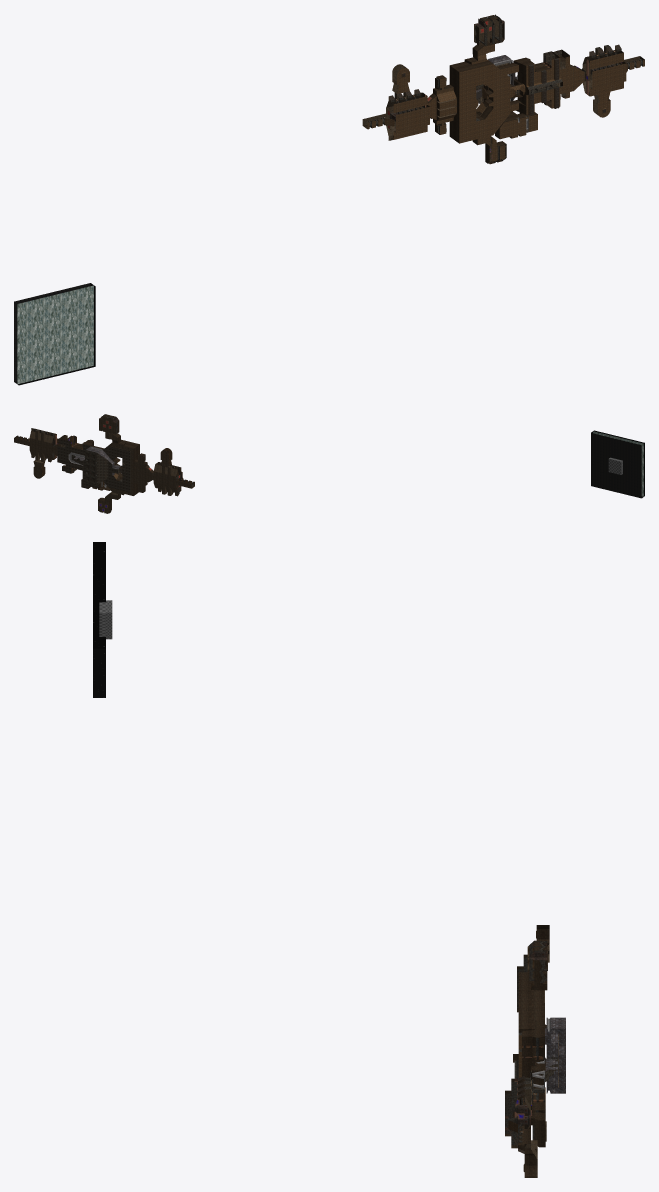
Rendered from CTF-Crucible.obj.
The picture shows the model from 3 angles, top to bottom: view 1: azimuth 30°, elevation 25°; view 2: azimuth 150°, elevation 25°; view 3: azimuth 270°, elevation 25°; orthographic projection. The views are drawn at different scales.
Parts seen in each view (by area): view 1: SkyCity_Base_sDavW27b, genfluid_Sky_SkytstA, utcrypt_Wall_ut-toc-brick2, utcrypt_Floor_rClfFlr12, utcrypt_Base_nucryptmetl1, utcrypt_Deco_indi4, shaneDAY_Dbottm; view 2: utcrypt_Floor_rClfFlr12, shaneDAY_Dbottm, UTtech1_Floor_floor3b, utcrypt_Wall_ut-toc-brick2, SkyCity_Base_sDavW27b, genfluid_Sky_SkytstA, utcrypt_Base_nucryptmetl1, _untextured, UT_morter1; view 3: utcrypt_Wall_ut-toc-brick2, ShaneSky_STARS, utcrypt_Base_nucryptmetl1, UT_morter1.
Part boxes in pixels (<box>): SkyCity_Base_sDavW27b: <box>367,44,644,161</box>; genfluid_Sky_SkytstA: <box>17,285,93,384</box>; utcrypt_Wall_ut-toc-brick2: <box>363,14,644,164</box>; utcrypt_Floor_rClfFlr12: <box>362,17,639,161</box>; utcrypt_Base_nucryptmetl1: <box>368,15,642,163</box>; utcrypt_Deco_indi4: <box>389,44,621,140</box>; shaneDAY_Dbottm: <box>14,283,90,381</box>; utcrypt_Floor_rClfFlr12: <box>14,416,191,513</box>; shaneDAY_Dbottm: <box>591,433,641,498</box>; UTtech1_Floor_floor3b: <box>57,439,130,492</box>; utcrypt_Wall_ut-toc-brick2: <box>14,414,194,513</box>; SkyCity_Base_sDavW27b: <box>17,428,194,490</box>; genfluid_Sky_SkytstA: <box>593,431,643,496</box>; utcrypt_Base_nucryptmetl1: <box>18,414,193,512</box>; _untextured: <box>608,457,622,474</box>; UT_morter1: <box>74,447,121,475</box>; utcrypt_Wall_ut-toc-brick2: <box>505,925,549,1177</box>; ShaneSky_STARS: <box>93,542,105,697</box>; utcrypt_Base_nucryptmetl1: <box>505,941,557,1145</box>; UT_morter1: <box>545,1017,565,1093</box>.
Bounding box in the file's own units: 450 × 79.55 × 177.
